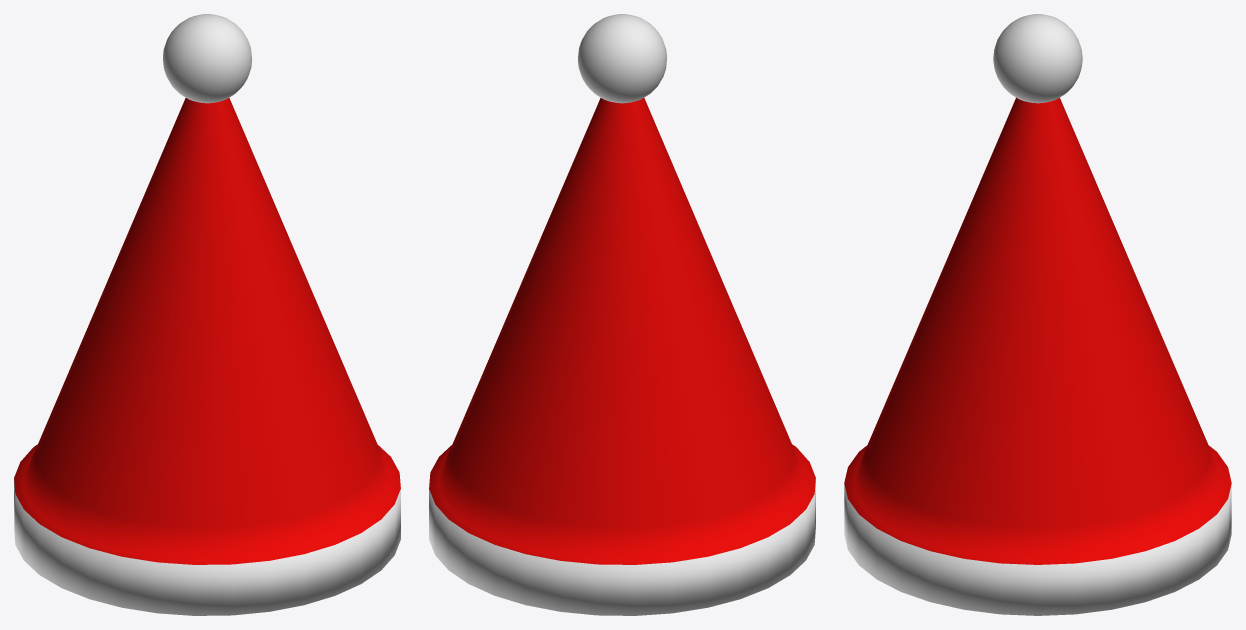
The model's file is hat.glb.
The picture shows the model from 3 angles, left to right: view 1: azimuth 30°, elevation 25°; view 2: azimuth 150°, elevation 25°; view 3: azimuth 270°, elevation 25°; orthographic projection.
Visible parts, largest first — view 1: Cylinder, Sphere; view 2: Cylinder, Sphere; view 3: Cylinder, Sphere.
Part boxes in pixels (box(x1,y1,x2,y2)): Cylinder: box(14, 98, 400, 615); Sphere: box(163, 14, 251, 103); Cylinder: box(429, 98, 815, 615); Sphere: box(578, 14, 666, 103); Cylinder: box(844, 97, 1231, 615); Sphere: box(993, 14, 1082, 103).
Bounding box in the file's own units: 1.48 × 2.17 × 1.48.
